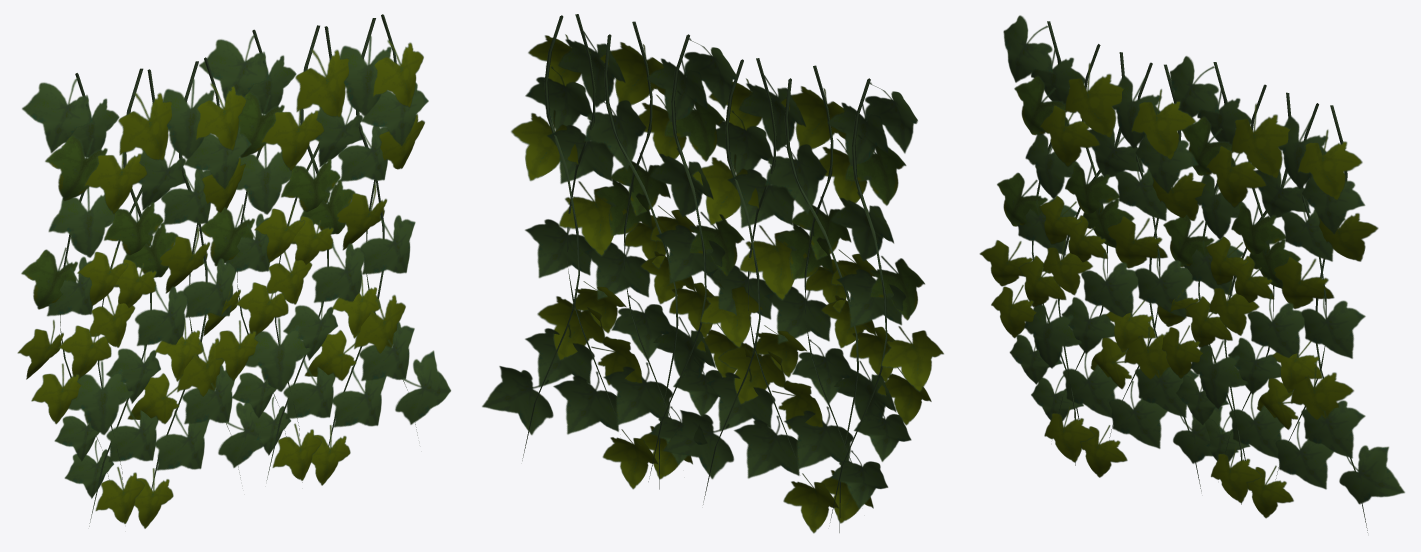
File: mdl_paprika_ivy2.gltf
The picture shows the model from 3 angles, left to right: view 1: azimuth 30°, elevation 25°; view 2: azimuth 150°, elevation 25°; view 3: azimuth 330°, elevation 25°; orthographic projection. The views are drawn at different scales.
Visible parts, largest first — view 1: Vine_Bunch_Flat_Large5; view 2: Vine_Bunch_Flat_Large5; view 3: Vine_Bunch_Flat_Large5.
Part boxes in pixels (box(x1,y1,x2,y2)): Vine_Bunch_Flat_Large5: box(17, 14, 450, 528); Vine_Bunch_Flat_Large5: box(482, 14, 943, 533); Vine_Bunch_Flat_Large5: box(979, 15, 1404, 532).
Bounding box in the file's own units: 2.42 × 2.41 × 0.2163.
1 material, 1 textured.
